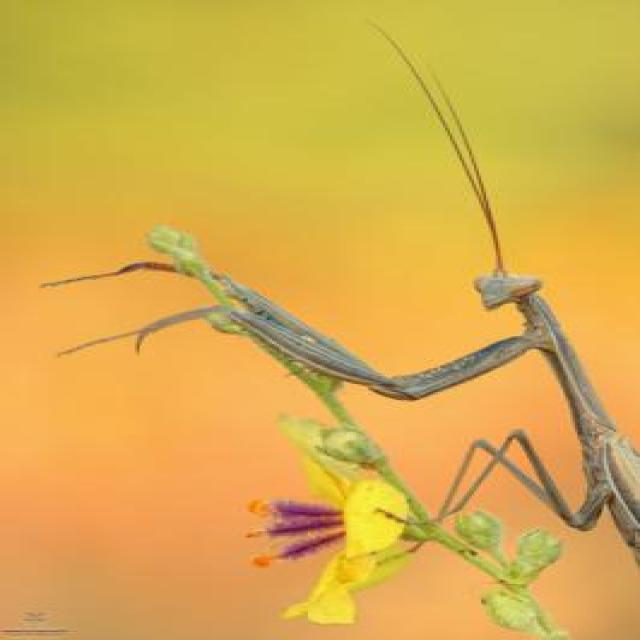antennae: (366, 19, 507, 271), (423, 57, 495, 267)
body: (477, 278, 640, 548)
insect: (49, 19, 640, 554)
legs: (49, 266, 565, 388), (43, 306, 555, 398), (378, 431, 593, 521), (434, 431, 610, 527)
mouthpart: (477, 298, 508, 313)
wings: (603, 435, 640, 567)
